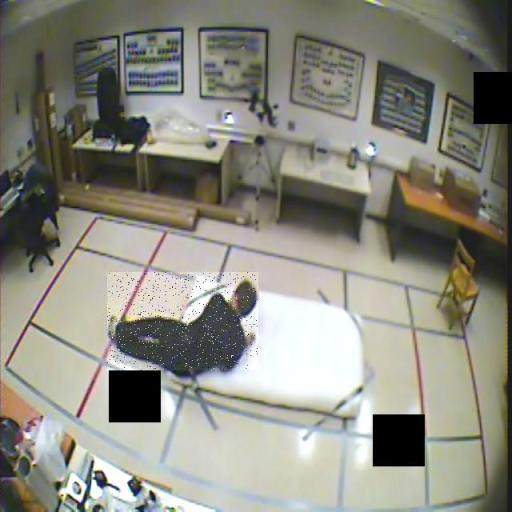Fall: (108, 272, 259, 370)
